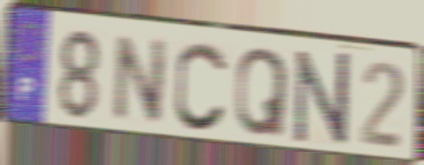2: (358, 58, 406, 151)
8: (55, 26, 105, 123)
C: (171, 38, 231, 135)
N: (109, 32, 172, 126), (293, 48, 351, 148)
Q: (233, 44, 291, 139)
